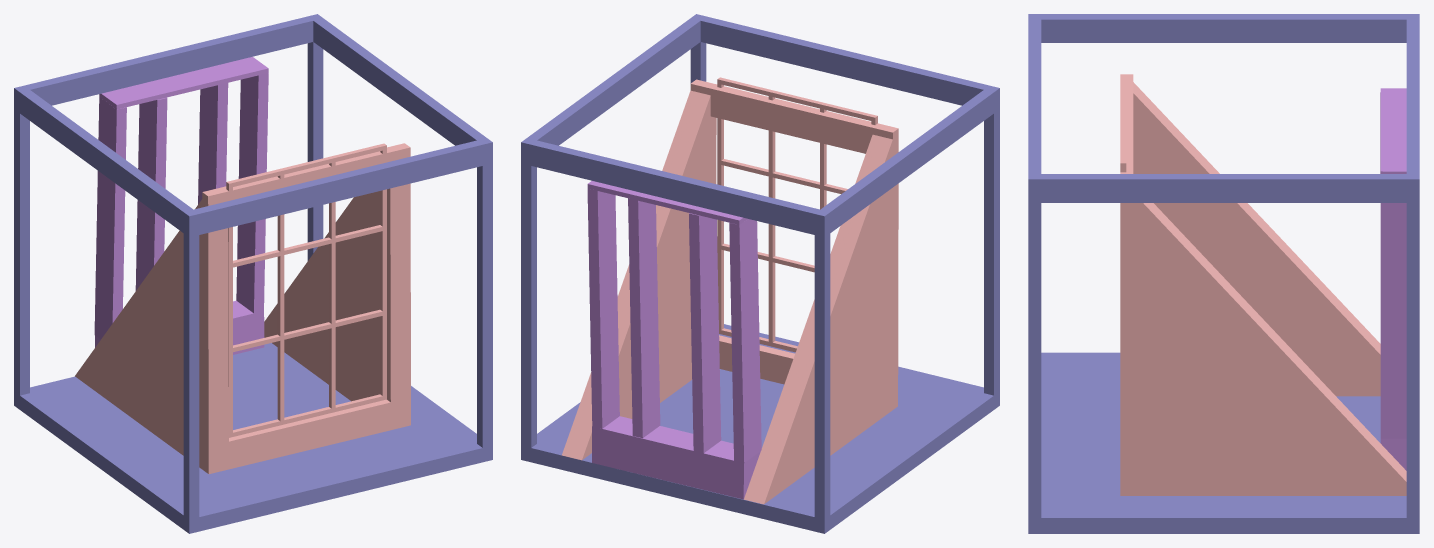
3 renders of one model, left to right at view 1: azimuth 30°, elevation 25°; view 2: azimuth 150°, elevation 25°; view 3: azimuth 270°, elevation 25°, orthographic. The views are drawn at different scales.
Visible parts, largest first — view 1: 物件_18, 物件_17, 物件_15, 物件_16, 物件_25, 物件_24, 物件_23, 物件_14, 物件_21, 物件_13, 物件_26, 物件_19 (+14 smaller); view 2: 物件_15, 物件_18, 物件_16, 物件_17, 物件_24, 物件_25, 物件_9, 物件_14, 物件_13, 物件_11, 物件_12, 物件_23 (+10 smaller); view 3: 物件_16, 物件_18, 物件_15, 物件_26, 物件_23, 物件_13, 物件_20, 物件_19, 物件_17, 物件_24, 物件_25, 物件_10 (+2 smaller).
Boxes of the visible parts, left/top/right/bottom form: 物件_18: left=14, top=343, right=492, bottom=533; 物件_17: left=202, top=143, right=410, bottom=473; 物件_15: left=75, top=195, right=205, bottom=471; 物件_16: left=264, top=189, right=388, bottom=401; 物件_25: left=184, top=139, right=491, bottom=236; 物件_24: left=14, top=14, right=320, bottom=108; 物件_23: left=14, top=86, right=198, bottom=237; 物件_14: left=94, top=97, right=126, bottom=339; 物件_21: left=183, top=210, right=199, bottom=519; 物件_13: left=236, top=73, right=268, bottom=313; 物件_26: left=310, top=14, right=492, bottom=165; 物件_19: left=477, top=138, right=492, bottom=447; 物件_15: left=744, top=131, right=895, bottom=504; 物件_18: left=521, top=324, right=999, bottom=533; 物件_16: left=562, top=90, right=713, bottom=460; 物件_17: left=690, top=79, right=898, bottom=409; 物件_24: left=521, top=138, right=827, bottom=236; 物件_25: left=694, top=14, right=999, bottom=105; 物件_9: left=592, top=416, right=760, bottom=499; 物件_14: left=729, top=219, right=761, bottom=462; 物件_13: left=587, top=188, right=619, bottom=428; 物件_11: left=628, top=198, right=660, bottom=438; 物件_12: left=689, top=213, right=721, bottom=453; 物件_23: left=815, top=88, right=999, bottom=237; 物件_16: left=1126, top=203, right=1406, bottom=495; 物件_18: left=1028, top=352, right=1419, bottom=533; 物件_15: left=1133, top=82, right=1380, bottom=396; 物件_26: left=1028, top=174, right=1419, bottom=202; 物件_23: left=1029, top=14, right=1419, bottom=42; 物件_13: left=1380, top=203, right=1406, bottom=438; 物件_20: left=1406, top=174, right=1419, bottom=517; 物件_19: left=1028, top=174, right=1041, bottom=517; 物件_17: left=1120, top=74, right=1133, bottom=495; 物件_24: left=1406, top=15, right=1419, bottom=202; 物件_25: left=1028, top=14, right=1041, bottom=202; 物件_10: left=1380, top=88, right=1406, bottom=173.
Size of the model in its own units: 48 by 48 by 48.
